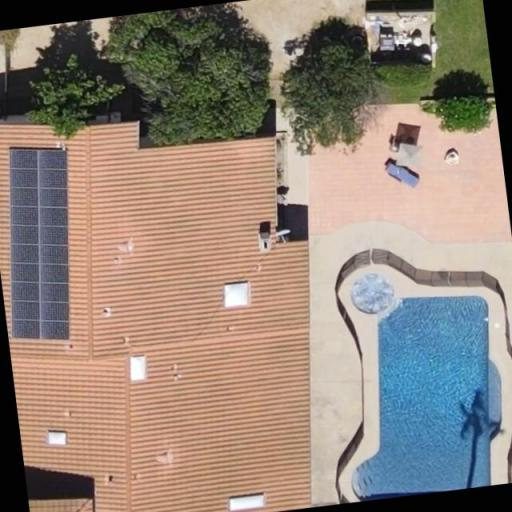solar-panel: (8, 147, 68, 339)
